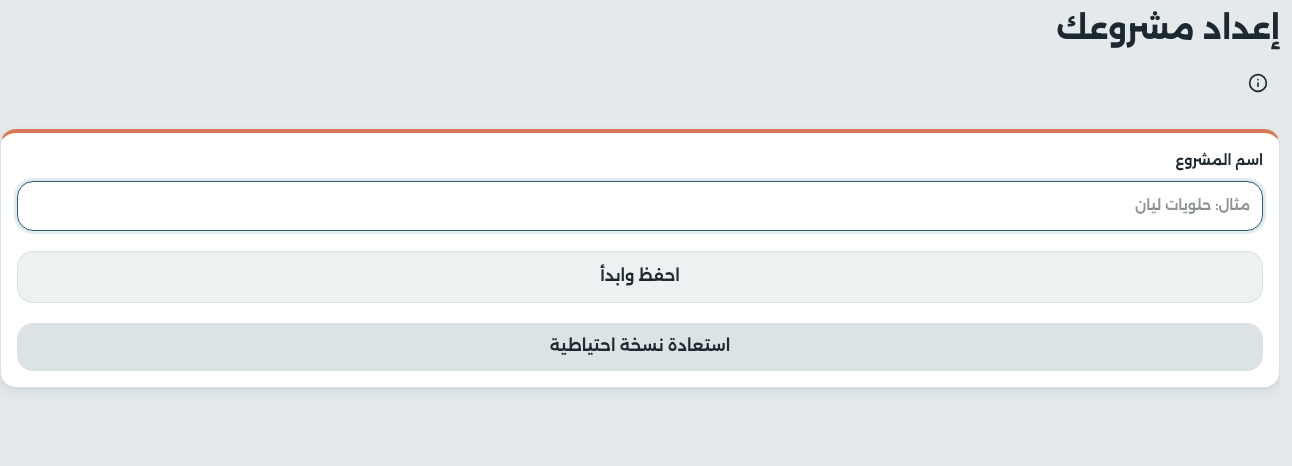
it: UNIT-001 empty-name rejection near the field (R04/AC02) › typing a real value clears the field error (R04 — keeps valid input)
The width and height of the screenshot is (1292, 466).
Click the button "احفظ وابدأ": (640, 276) 17,250 -> 1263,302
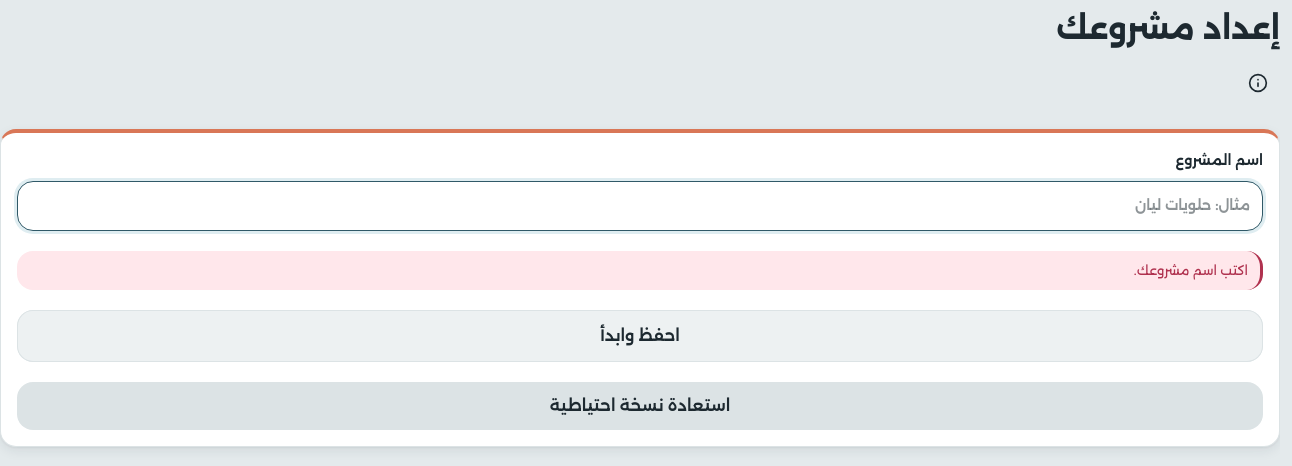
Expected: the text "اكتب اسم مشروعك." is shown, 17,250 -> 1263,290
In the field labelled "اسم المشروع": (640, 206) 17,181 -> 1263,230, type "حلويات ليان"
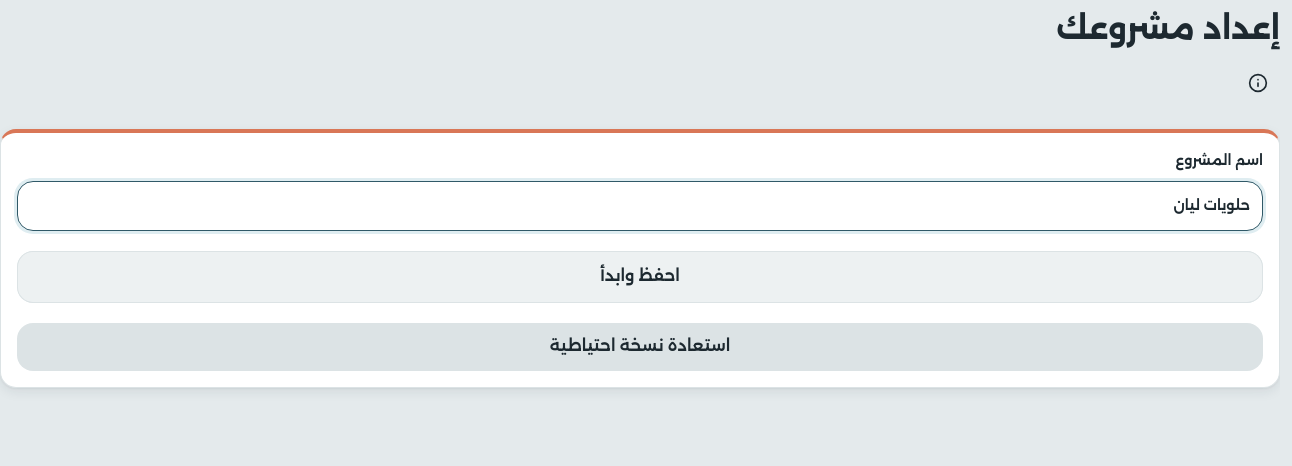
Expected: the text "اكتب اسم مشروعك." is gone
